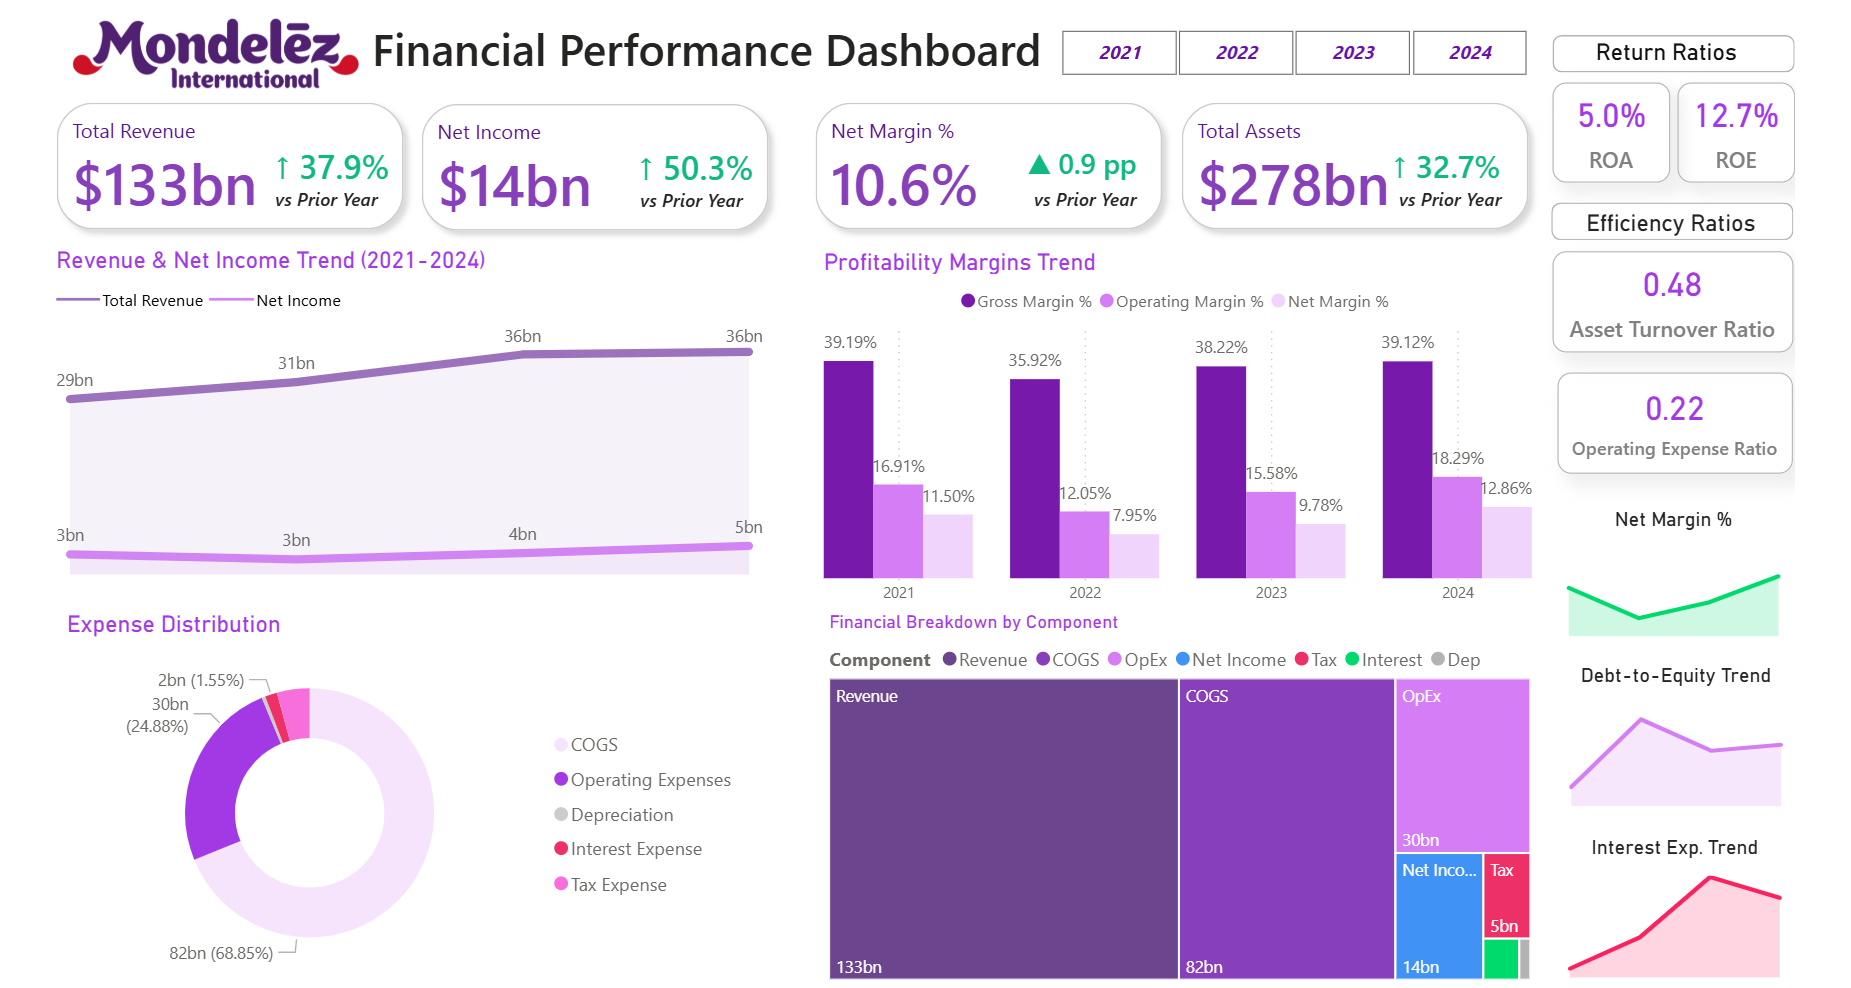

Layout of this report page (visuals, bound fields, positions):
{"tool":"powerbi","page":{"name":"Executive Summary","canvas":[1280,720],"ordinal":0},"visuals":[{"type":"shape","box":[1103.8,25.7,176.2,27.2],"z":0,"group":"g1"},{"type":"card","title":"ROA","fields":{"Values":["_Measures.ROA"]},"box":[1103.8,60.3,85.8,72.9],"z":0},{"type":"shape","box":[1102.5,147.1,176.2,27.5],"z":0,"group":"g2"},{"type":"lineChart","title":"Revenue & Net Income Trend (2021-2024)","fields":{"Category":["Date_Dimension.Year"],"Y":["_Measures.Total Revenue","_Measures.Net Income"]},"box":[15.8,178.8,513.8,240],"z":0},{"type":"textbox","box":[1130.4,23.2,125,31.2],"z":1000,"group":"g1"},{"type":"card","title":"ROA","fields":{"Values":["_Measures.ROE"]},"box":[1194.2,60.3,85.8,72.9],"z":1000},{"type":"textbox","box":[1110.6,147.3,157.5,30],"z":1000,"group":"g2"},{"type":"card","title":"ROA","fields":{"Values":["_Measures.Asset Turnover"]},"box":[1103.8,182.5,175,73.8],"z":1000},{"type":"group","id":"g1","title":"Group 1","box":[1103.8,23.2,176.2,31.2],"z":2000},{"type":"clusteredColumnChart","title":"Profitability Margins Trend","fields":{"Category":["Date_Dimension.Year"],"Y":["_Measures.Gross Margin %","_Measures.Operating Margin %","_Measures.Net Margin %"]},"box":[573.3,180,515,263.8],"z":2000},{"type":"card","title":"ROA","fields":{"Values":["_Measures.Operating Expense Ratio"]},"box":[1107.5,271.2,171.2,73.8],"z":3000},{"type":"group","id":"g2","title":"Group 1","box":[1102.5,147.1,176.2,30.2],"z":5000},{"type":"textbox","box":[240,8.8,503.8,60],"z":6000},{"type":"image","box":[16.2,0,232.5,77.5],"z":7000},{"type":"donutChart","title":"Expense Distribution","fields":{"Y":["_Measures.COGS","_Measures.Operating Expenses","_Measures.Depreciation","_Measures.Interest Expense","_Measures.Tax Expense"]},"box":[18.3,443.8,502.5,276.2],"z":8000},{"type":"treemap","title":"Financial Breakdown by Component","fields":{"Values":["Financial_Components.Component Value"],"Group":["Financial_Components.Component"]},"box":[572.8,444.1,520,272.9],"z":9000},{"type":"cardVisual","fields":{"Data":["_Measures.Total Assets"]},"box":[817,62.5,286.2,116.2],"z":10000},{"type":"cardVisual","fields":{"Data":["_Measures.Net Income"]},"box":[264.5,63.8,286.2,116.2],"z":10000,"group":"g3"},{"type":"slicer","title":"Year","fields":{"Values":["Date_Dimension.Year"]},"box":[726.2,20,377.5,36.2],"z":11000},{"type":"card","fields":{"Values":["_Measures.YoY Net Income Growth Display"]},"box":[432,107.6,97.5,31.2],"z":11000,"group":"g3"},{"type":"cardVisual","fields":{"Data":["_Measures.Total Revenue"]},"box":[-0.5,62.5,286.2,116.2],"z":12000},{"type":"textbox","box":[439.5,136.3,81.2,22.5],"z":12000,"group":"g3"},{"type":"card","fields":{"Values":["_Measures.YoY Asset Growth Display"]},"box":[987,106.2,78.8,31.2],"z":13000},{"type":"cardVisual","fields":{"Data":["_Measures.Net Margin %"]},"box":[550.8,62.5,286.2,116.2],"z":14000,"group":"g4"},{"type":"card","fields":{"Values":["_Measures.YoY Revenue Growth Display"]},"box":[167,106.2,97.5,31.2],"z":14000},{"type":"card","fields":{"Values":["_Measures.Net Margin Change Display"]},"box":[718.3,102.8,86.2,35],"z":15000,"group":"g4"},{"type":"textbox","box":[992,135,81.2,22.5],"z":15000},{"type":"textbox","box":[174.5,135,81.2,22.5],"z":16000},{"type":"textbox","box":[725.8,135,81.2,22.5],"z":16000,"group":"g4"},{"type":"group","id":"g3","title":"Group 7","box":[264.5,63.8,286.2,116.2],"z":17000},{"type":"group","id":"g4","title":"Group 6","box":[550.8,62.5,286.2,116.2],"z":18000},{"type":"lineChart","title":"Debt-to-Equity Trend","fields":{"Y":["_Measures.Debt to Equity"],"Category":["Date_Dimension.Year"]},"box":[1107.5,483.1,172.5,108.8],"z":20000},{"type":"lineChart","title":"Interest Exp. Trend","fields":{"Category":["Date_Dimension.Year"],"Y":["_Measures.Interest Expense"]},"box":[1106.2,607.5,172.5,108.8],"z":21000},{"type":"lineChart","title":"Net Margin %","fields":{"Category":["Date_Dimension.Year"],"Y":["_Measures.Net Margin %"]},"box":[1105,368.8,172.5,98.8],"z":21001}]}

Visuals, with their boxes on the page's 1280x720 design canvas (x1, y1, x2, y2). These are canvas units, not pixel positions in the 1851x988 screenshot, which may show the page scaled, cropped or inside an application window:
shape: [x1=1104, y1=26, x2=1280, y2=53]
"ROA" card: [x1=1104, y1=60, x2=1190, y2=133]
shape: [x1=1102, y1=147, x2=1279, y2=175]
"Revenue & Net Income Trend (2021-2024)" lineChart: [x1=16, y1=179, x2=530, y2=419]
textbox: [x1=1130, y1=23, x2=1255, y2=54]
"ROA" card: [x1=1194, y1=60, x2=1280, y2=133]
textbox: [x1=1111, y1=147, x2=1268, y2=177]
"ROA" card: [x1=1104, y1=182, x2=1279, y2=256]
"Group 1" group: [x1=1104, y1=23, x2=1280, y2=54]
"Profitability Margins Trend" clusteredColumnChart: [x1=573, y1=180, x2=1088, y2=444]
"ROA" card: [x1=1108, y1=271, x2=1279, y2=345]
"Group 1" group: [x1=1102, y1=147, x2=1279, y2=177]
textbox: [x1=240, y1=9, x2=744, y2=69]
image: [x1=16, y1=0, x2=249, y2=78]
"Expense Distribution" donutChart: [x1=18, y1=444, x2=521, y2=720]
"Financial Breakdown by Component" treemap: [x1=573, y1=444, x2=1093, y2=717]
cardVisual - _Measures.Total Assets: [x1=817, y1=62, x2=1103, y2=179]
cardVisual - _Measures.Net Income: [x1=264, y1=64, x2=551, y2=180]
"Year" slicer: [x1=726, y1=20, x2=1104, y2=56]
card - _Measures.YoY Net Income Growth Display: [x1=432, y1=108, x2=530, y2=139]
cardVisual - _Measures.Total Revenue: [x1=0, y1=62, x2=286, y2=179]
textbox: [x1=440, y1=136, x2=521, y2=159]
card - _Measures.YoY Asset Growth Display: [x1=987, y1=106, x2=1066, y2=137]
cardVisual - _Measures.Net Margin %: [x1=551, y1=62, x2=837, y2=179]
card - _Measures.YoY Revenue Growth Display: [x1=167, y1=106, x2=264, y2=137]
card - _Measures.Net Margin Change Display: [x1=718, y1=103, x2=804, y2=138]
textbox: [x1=992, y1=135, x2=1073, y2=158]
textbox: [x1=174, y1=135, x2=256, y2=158]
textbox: [x1=726, y1=135, x2=807, y2=158]
"Group 7" group: [x1=264, y1=64, x2=551, y2=180]
"Group 6" group: [x1=551, y1=62, x2=837, y2=179]
"Debt-to-Equity Trend" lineChart: [x1=1108, y1=483, x2=1280, y2=592]
"Interest Exp. Trend" lineChart: [x1=1106, y1=608, x2=1279, y2=716]
"Net Margin %" lineChart: [x1=1105, y1=369, x2=1278, y2=468]
